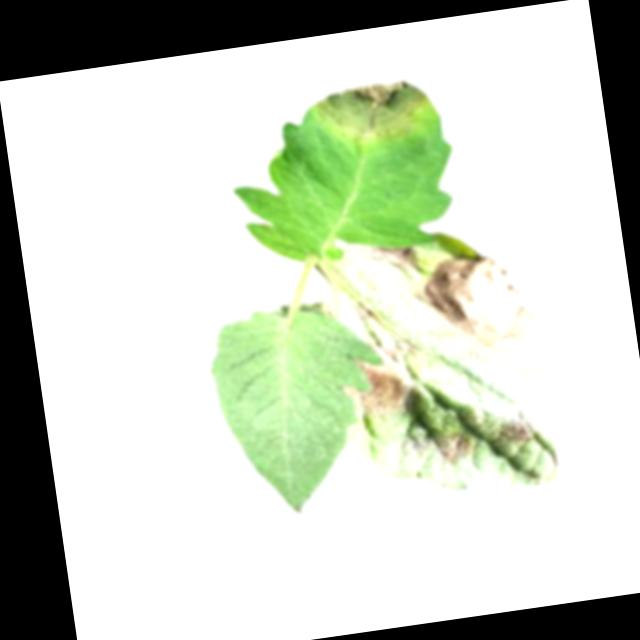Late_blight: (407, 247, 543, 372), (311, 76, 434, 151), (339, 332, 419, 418), (399, 427, 478, 475), (359, 239, 419, 278), (496, 406, 541, 446), (352, 298, 379, 326)
healthy: (203, 295, 404, 522)
